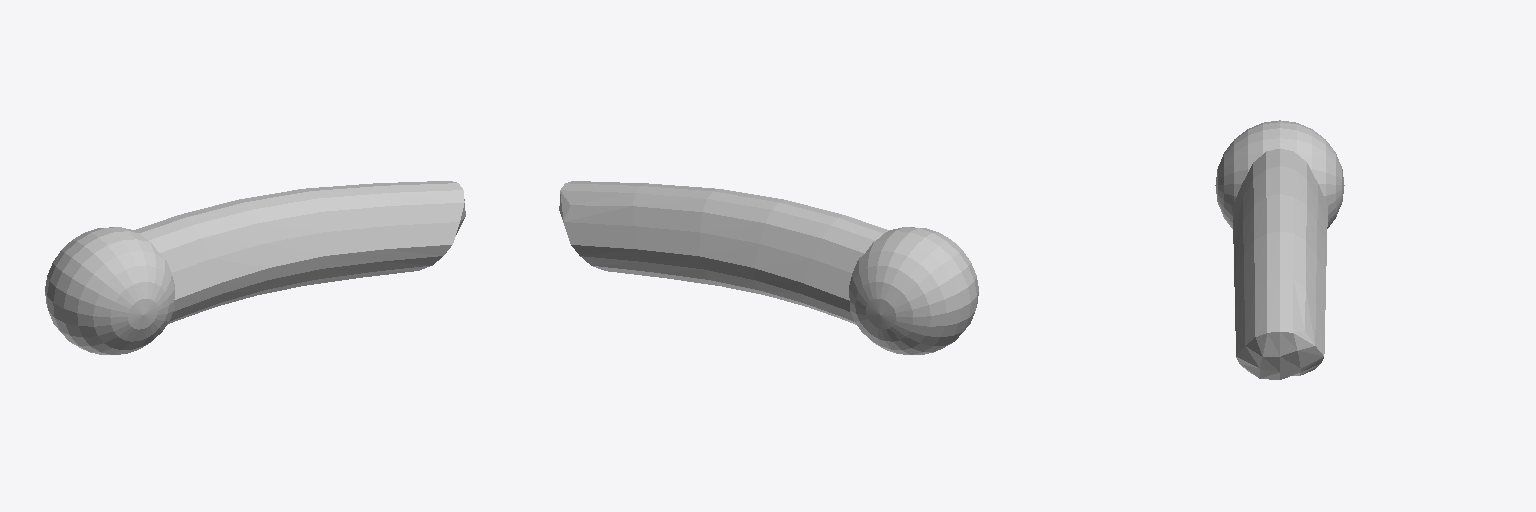
File: Spine.obj
3 renders of one model, left to right at view 1: azimuth 30°, elevation 25°; view 2: azimuth 150°, elevation 25°; view 3: azimuth 270°, elevation 25°, orthographic.
Visible parts, largest first — view 1: spine.001; view 2: spine.001; view 3: spine.001.
Boxes of the visible parts, x1,y1,x2,y2 form: spine.001: [45, 181, 465, 354]; spine.001: [559, 181, 978, 354]; spine.001: [1215, 120, 1344, 379].
Bounding box in the file's own units: 0.2914 × 0.0803 × 0.0804.